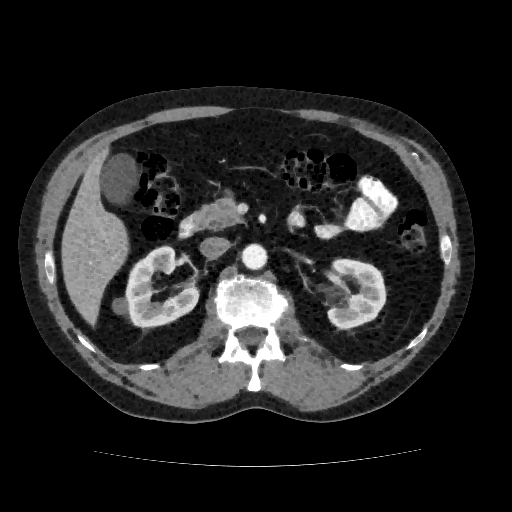Lesion: (108, 295, 132, 321)
